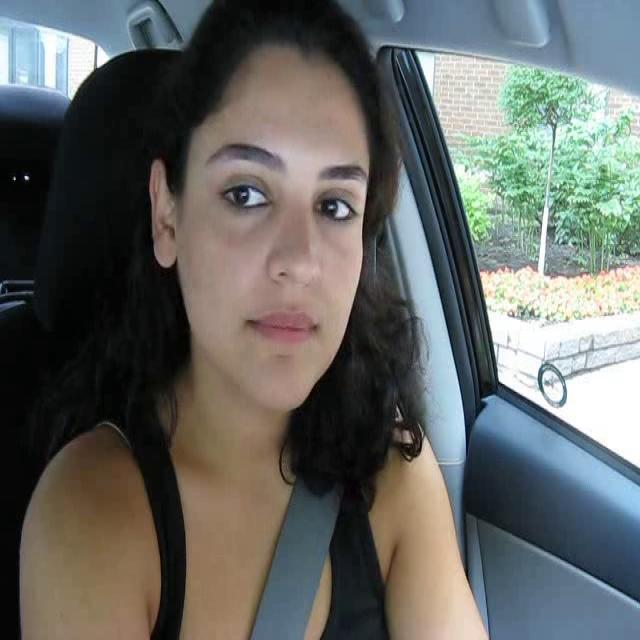close: (247, 305, 319, 350)
